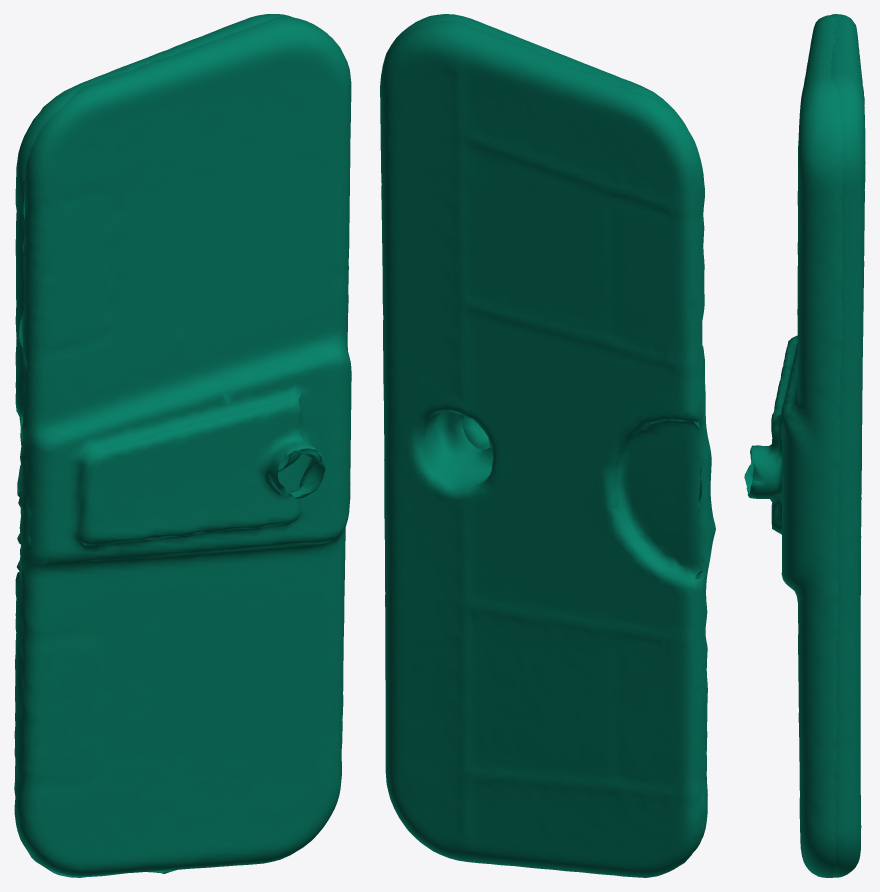
Rendered from TopWing.obj.
3 views of the same model, side by side, from view 1: azimuth 30°, elevation 25°; view 2: azimuth 150°, elevation 25°; view 3: azimuth 270°, elevation 25° (orthographic). The views are drawn at different scales.
Visible parts, largest first — view 1: TopWing; view 2: TopWing; view 3: TopWing.
Boxes of the visible parts, x1,y1,x2,y2 form: TopWing: [14, 14, 351, 877]; TopWing: [380, 14, 715, 877]; TopWing: [744, 14, 865, 877].
Size of the model in its own units: 0.1034 by 0.2546 by 0.0352.
Materials: 1 (1 with a texture image).
